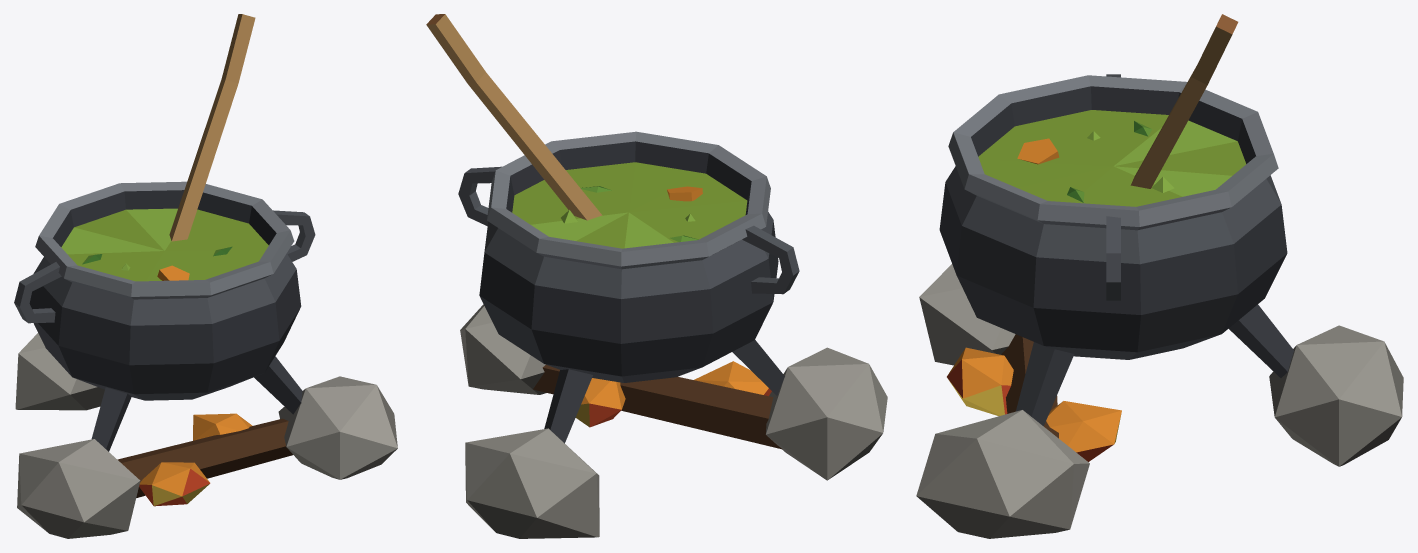
The model's file is cook_pot.glb.
3 views of the same model, side by side, from view 1: azimuth 30°, elevation 25°; view 2: azimuth 150°, elevation 25°; view 3: azimuth 270°, elevation 25° (orthographic). The views are drawn at different scales.
Parts seen in each view (by area): view 1: cook_pot; view 2: cook_pot; view 3: cook_pot.
Part boxes in pixels (box(x1,y1,x2,y2)): cook_pot: box(14, 14, 397, 538); cook_pot: box(426, 14, 887, 538); cook_pot: box(916, 14, 1403, 538).
Bounding box in the file's own units: 0.5613 × 0.5519 × 0.4926.
